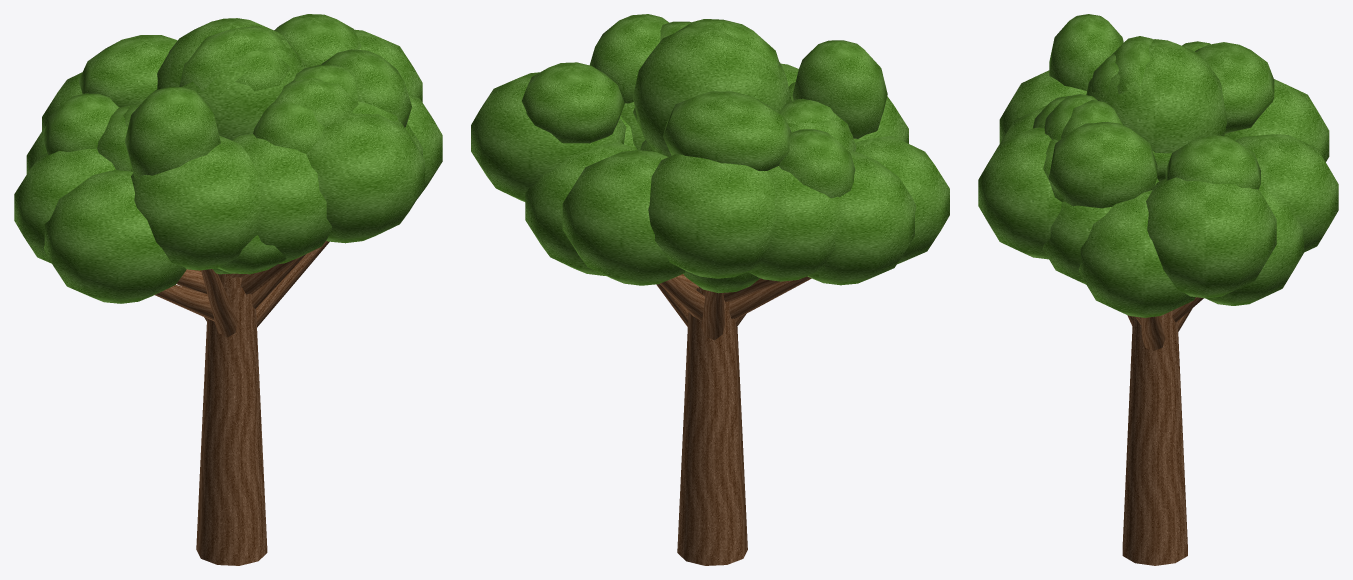
Rendered from arbol.obj.
3 views of the same model, side by side, from view 1: azimuth 30°, elevation 25°; view 2: azimuth 150°, elevation 25°; view 3: azimuth 270°, elevation 25° (orthographic). The views are drawn at different scales.
Parts seen in each view (by area): view 1: ArbolParque; view 2: ArbolParque; view 3: ArbolParque.
Part boxes in pixels (box(x1,y1,x2,y2)): ArbolParque: box(14, 14, 442, 565); ArbolParque: box(471, 14, 949, 565); ArbolParque: box(978, 14, 1338, 565).
Size of the model in its own units: 3.72 by 4.56 by 2.94.
2 materials, 2 textured.
